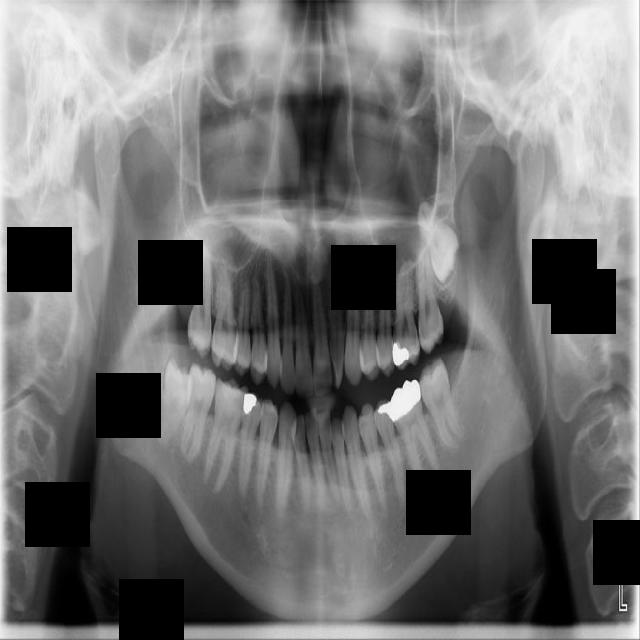52: (378, 376, 429, 423), (385, 339, 413, 367), (376, 401, 393, 423), (242, 393, 258, 415)
73: (513, 550, 535, 550)
BioHorizons Implant: (412, 249, 445, 353)
BioLife Implant: (413, 196, 468, 281)
Blue Sky Bio Implant: (414, 357, 466, 450), (179, 361, 218, 462)
Caries: (187, 250, 212, 357)
Keystone Dental Implant: (155, 359, 197, 448)
